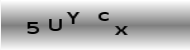5: (25, 21, 40, 35)
U: (48, 18, 63, 32)
Y: (65, 9, 80, 26)
c: (96, 11, 111, 22)
x: (112, 24, 128, 36)
